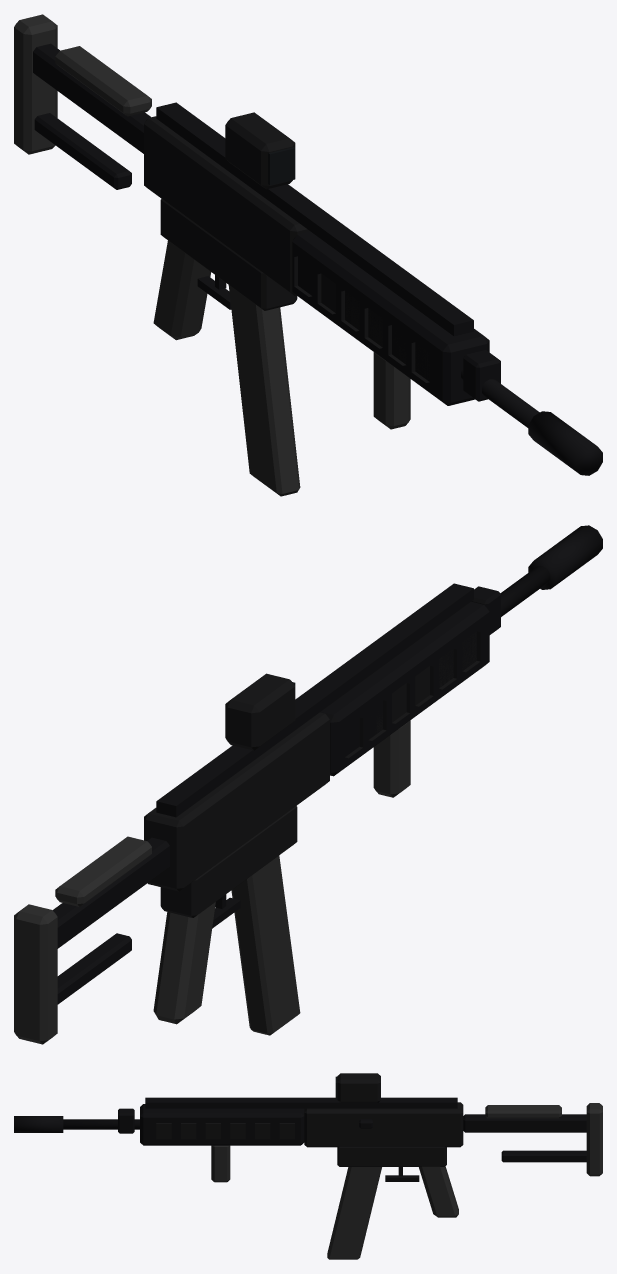
File: rifle.fbx
3 renders of one model, top to bottom at view 1: azimuth 30°, elevation 25°; view 2: azimuth 150°, elevation 25°; view 3: azimuth 270°, elevation 25°, orthographic. The views are drawn at different scales.
Parts seen in each view (by area): view 1: rifle; view 2: rifle; view 3: rifle.
Part boxes in pixels (x1=…): rifle: x1=14, y1=14, x2=602, y2=496; rifle: x1=14, y1=525, x2=602, y2=1044; rifle: x1=14, y1=1073, x2=602, y2=1259.
Bounding box in the file's own units: 0.066 × 0.365 × 1.07.
Materials: 1 (1 with a texture image).
